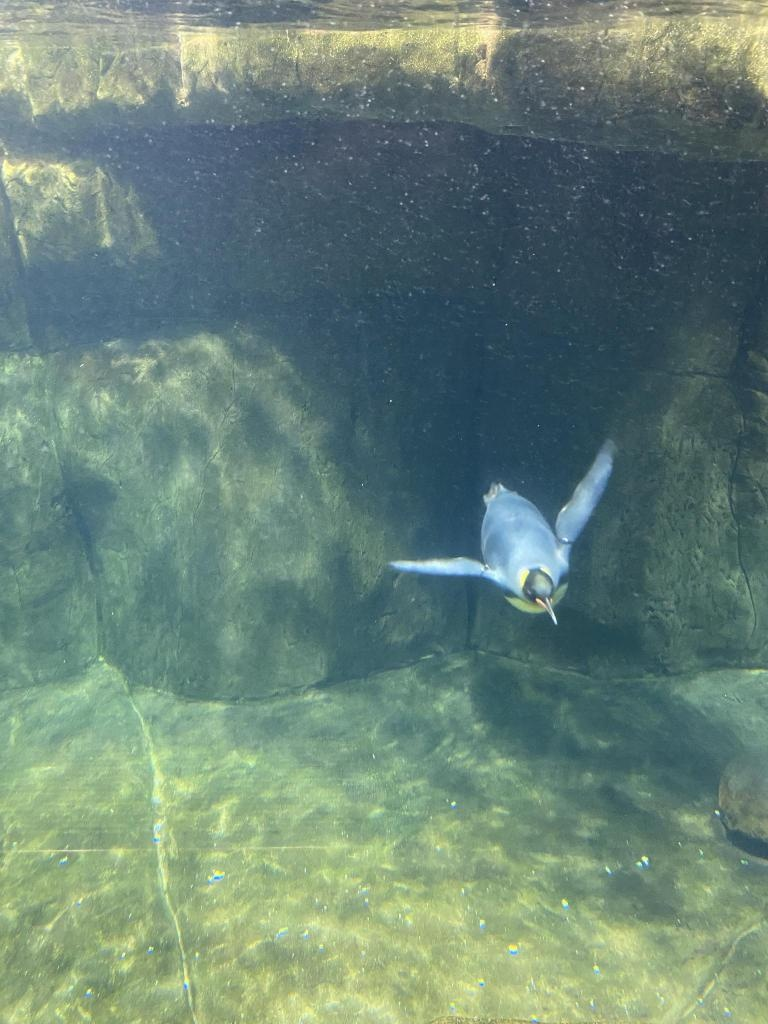penguin: (390, 436, 618, 626)
